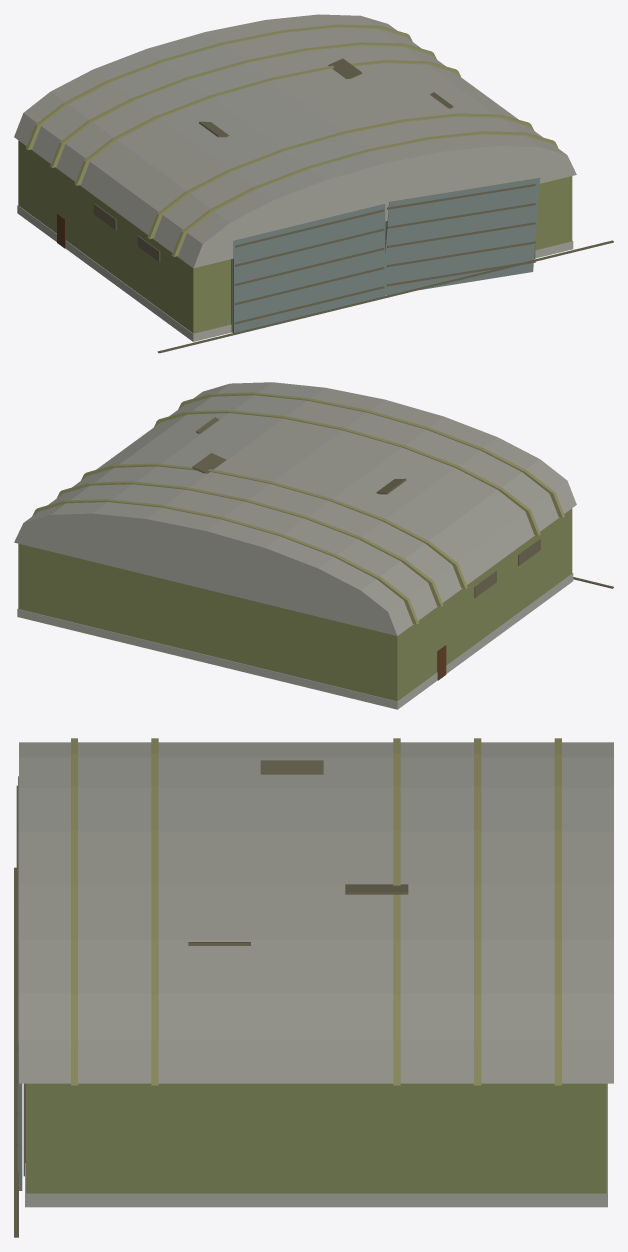
The model's file is SM_Hangar_v3_LOD0.fbx.
3 renders of one model, top to bottom at view 1: azimuth 30°, elevation 25°; view 2: azimuth 150°, elevation 25°; view 3: azimuth 270°, elevation 25°, orthographic. The views are drawn at different scales.
Visible parts, largest first — view 1: SM_hangar_v3_LOD0, Porton_O, Porton_E; view 2: SM_hangar_v3_LOD0; view 3: SM_hangar_v3_LOD0, Porton_E.
Boxes of the visible parts, bbox=[...] form: SM_hangar_v3_LOD0: bbox=[14, 14, 613, 353]; Porton_O: bbox=[232, 204, 385, 332]; Porton_E: bbox=[385, 178, 540, 295]; SM_hangar_v3_LOD0: bbox=[14, 382, 613, 709]; SM_hangar_v3_LOD0: bbox=[14, 738, 613, 1237]; Porton_E: bbox=[16, 900, 22, 1190].
Bounding box in the file's own units: 36 × 11 × 24.8.
